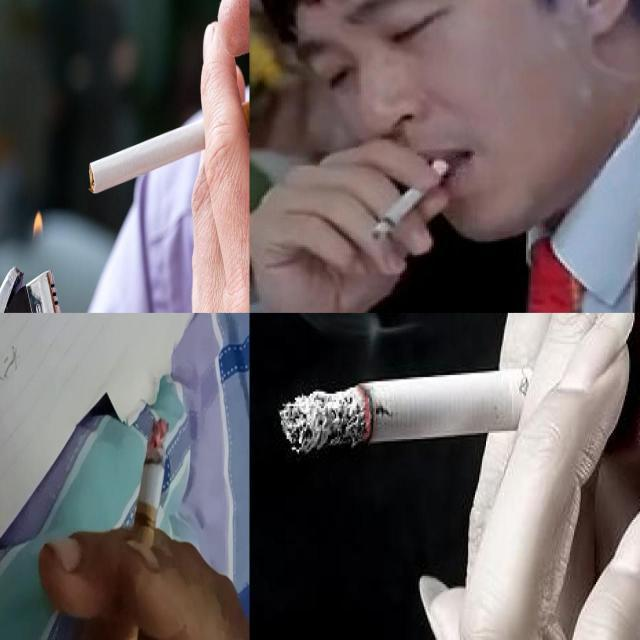cigarette: (274, 362, 606, 458), (89, 95, 249, 196), (115, 418, 170, 639), (372, 156, 451, 240)
